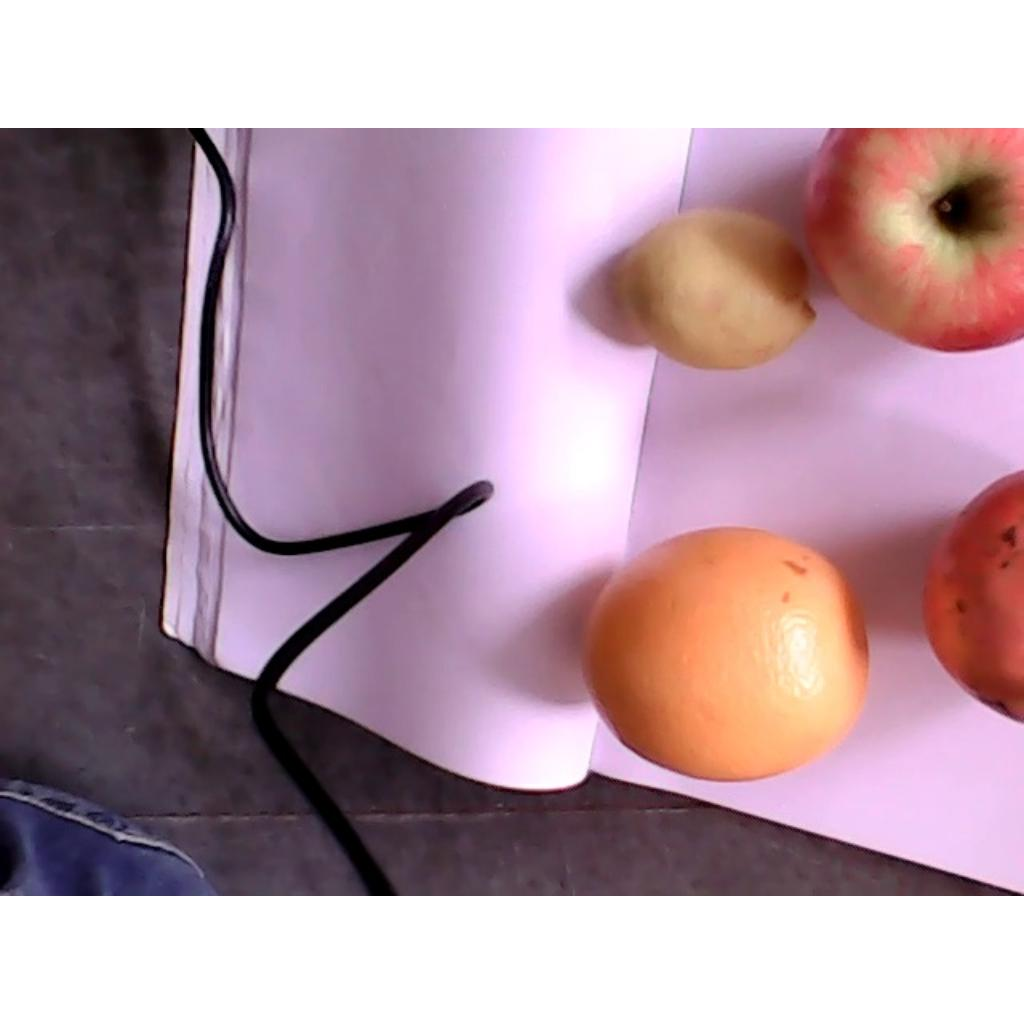apple: (799, 129, 1022, 351)
lemon: (615, 208, 819, 370)
orange: (585, 526, 871, 782)
pomegranate: (923, 470, 1022, 724)
